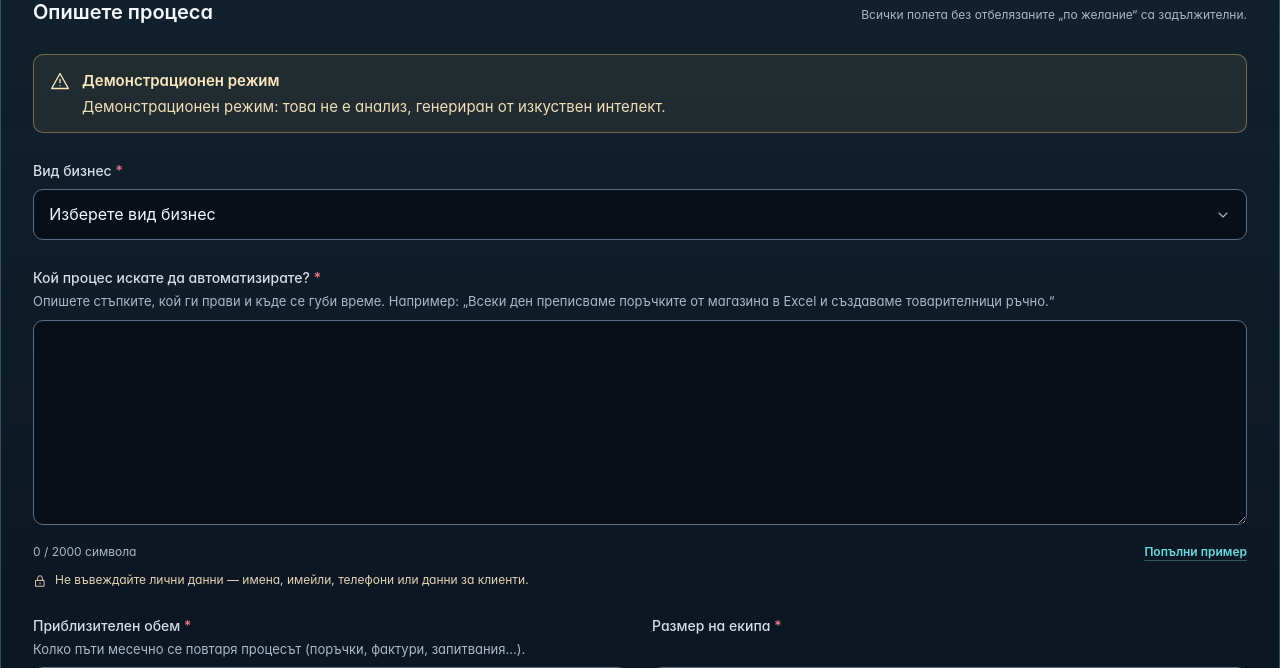
Test: AdvisorTool › renders the structured assessment with the demo disclaimer
Select "Онлайн магазин" in the dropdown labelled "Вид бизнес *" at (640,215), box [33,189,1247,240]
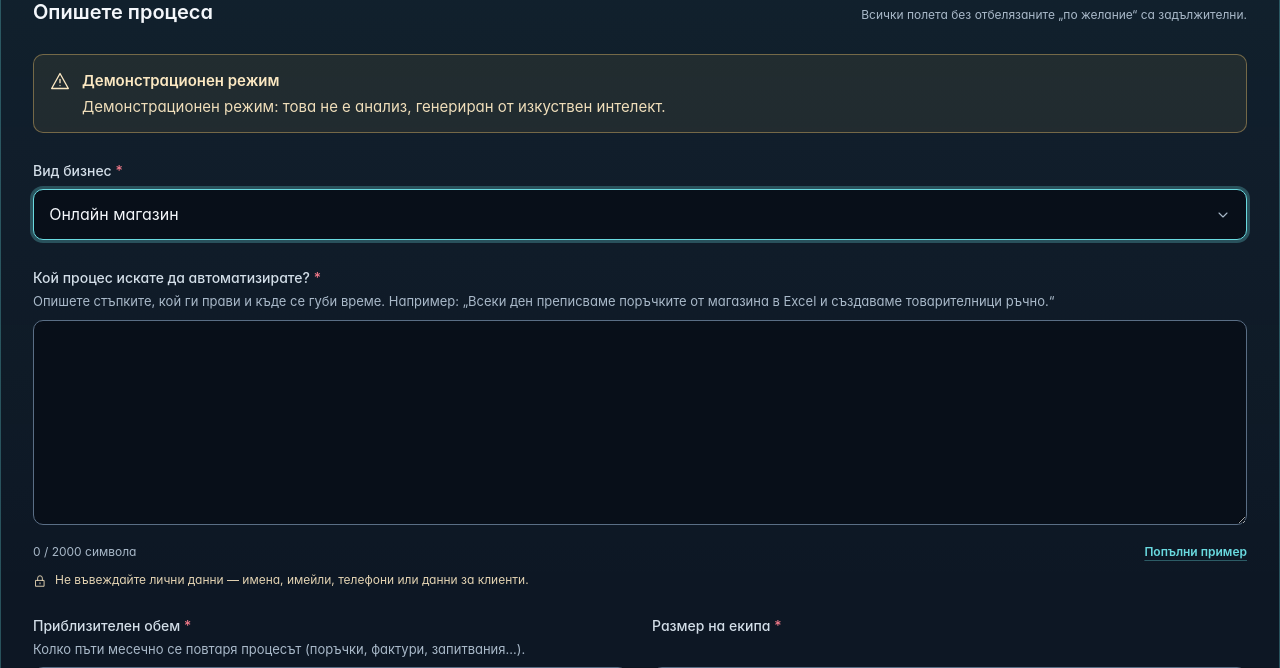
Click the button "Попълни пример" at (1196,552), box [1144,540,1247,564]
(page scrolled)
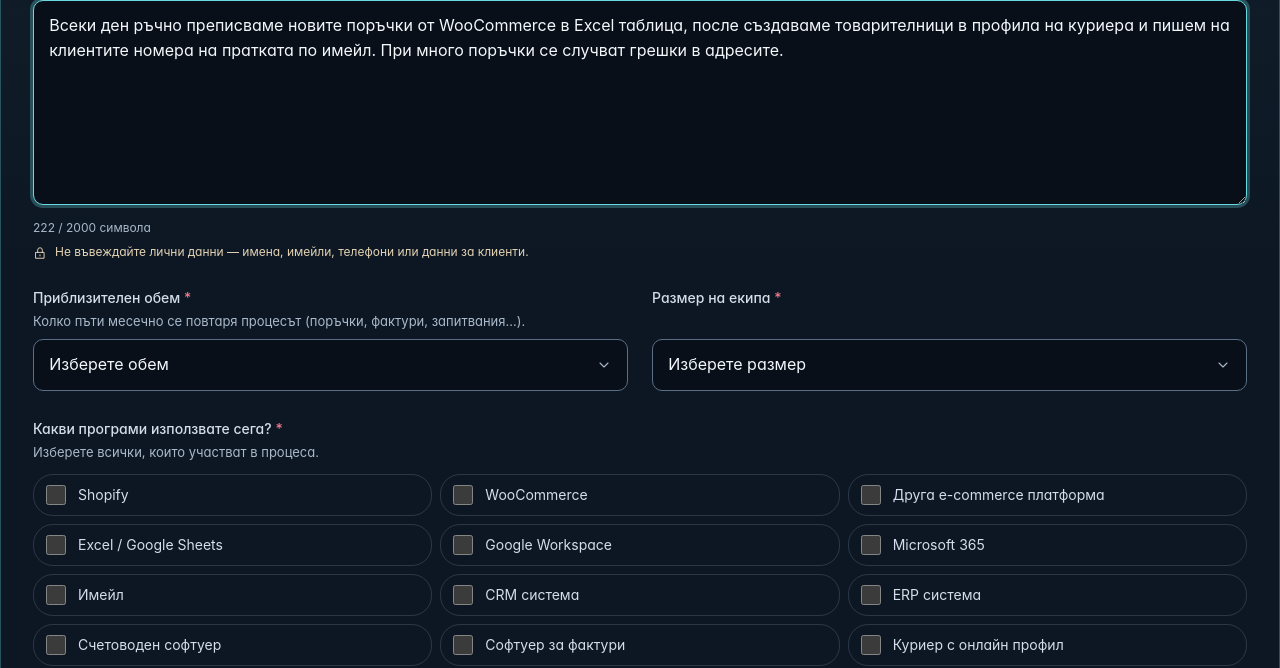
Select "500–2 000 на месец" in the dropdown labelled "Приблизителен обем *" at (330,365), box [33,339,628,391]
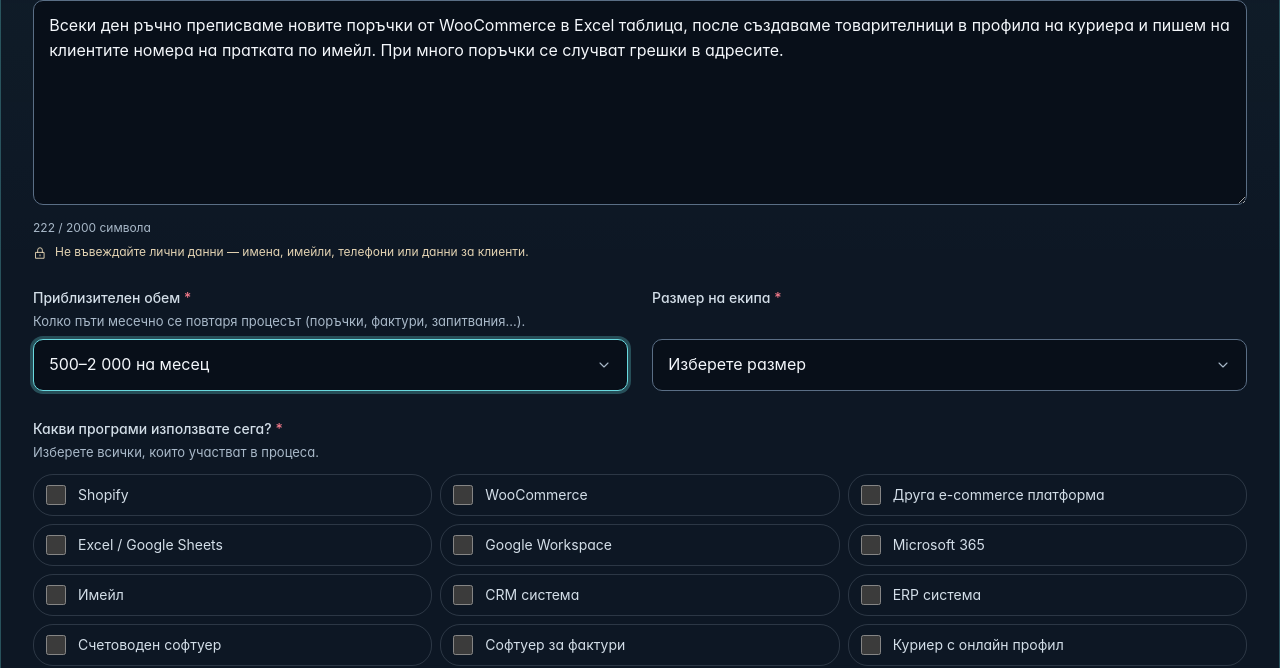
Select "2–5 души" in the dropdown labelled "Размер на екипа *" at (950,365), box [652,339,1247,391]
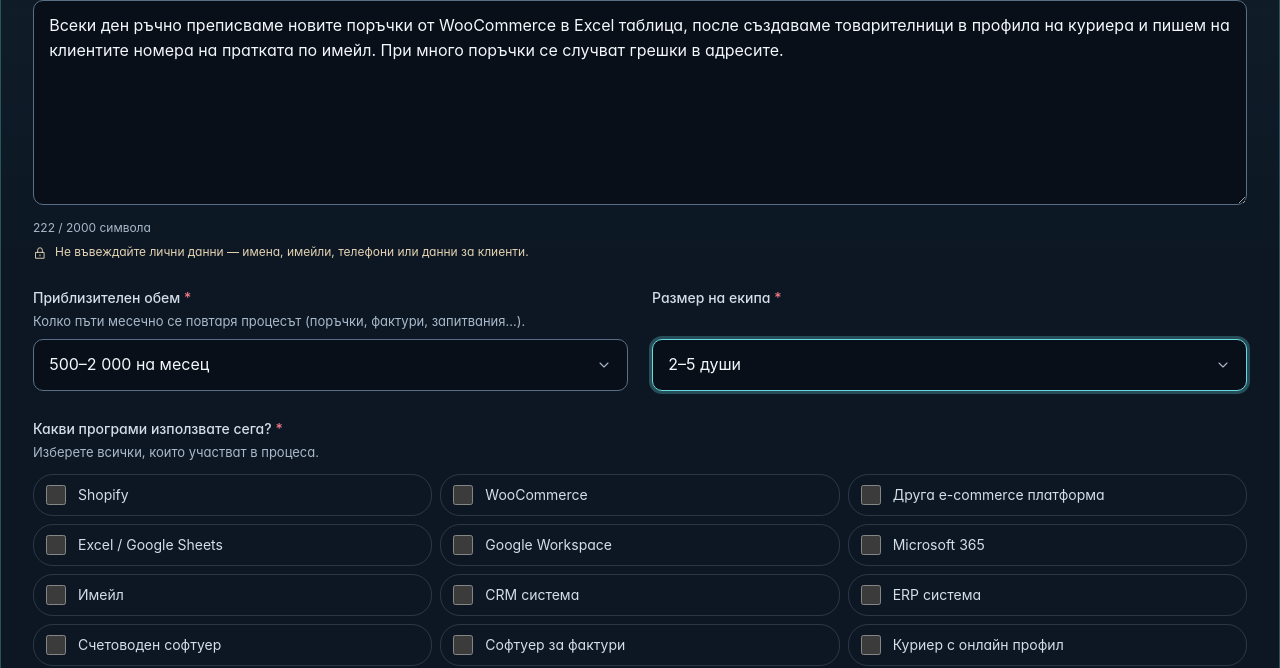
Click the checkbox labelled "WooCommerce" at (463,495), box [453,485,473,505]
(page scrolled)
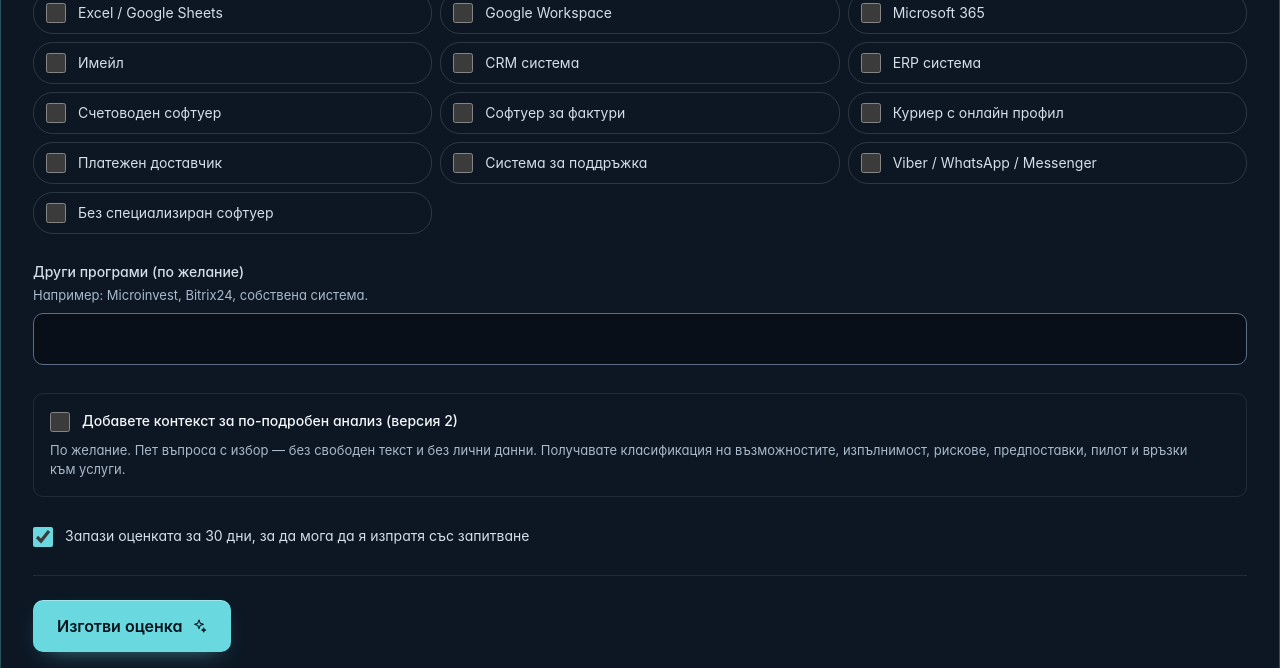
Click the button "Изготви оценка" at (132,626), box [33,600,230,652]
(page scrolled)
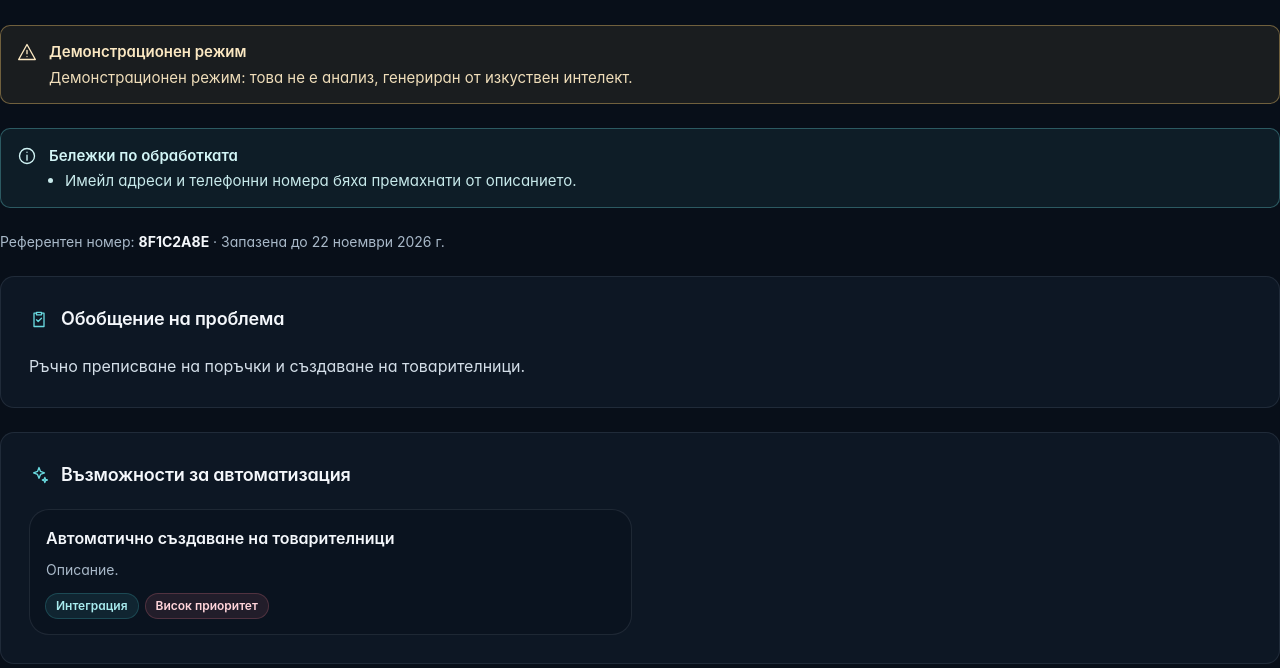
Expected: the text with test id "advisor-disclaimer" reads "Демонстрационен режим: това не е анализ, генериран от изкуствен интелект.", [49,68,633,87]
Expected: the heading "Обобщение на проблема" is shown, [29,308,284,329]
Expected: the heading "Възможности за автоматизация" is shown, [29,464,351,485]
